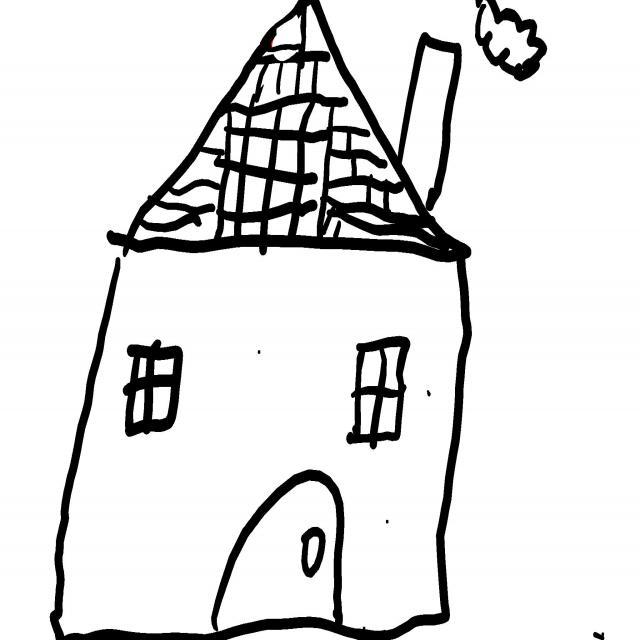chimney: (398, 30, 466, 218)
door: (211, 483, 337, 630)
house: (50, 0, 472, 640)
roof: (107, 0, 479, 266)
wall: (54, 248, 470, 640)
window: (347, 337, 411, 450), (123, 340, 183, 436)
